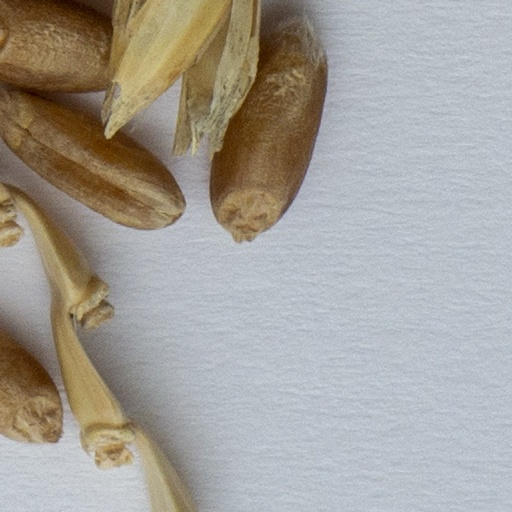Peel-poly: (0, 139, 199, 511), (109, 0, 260, 152)
